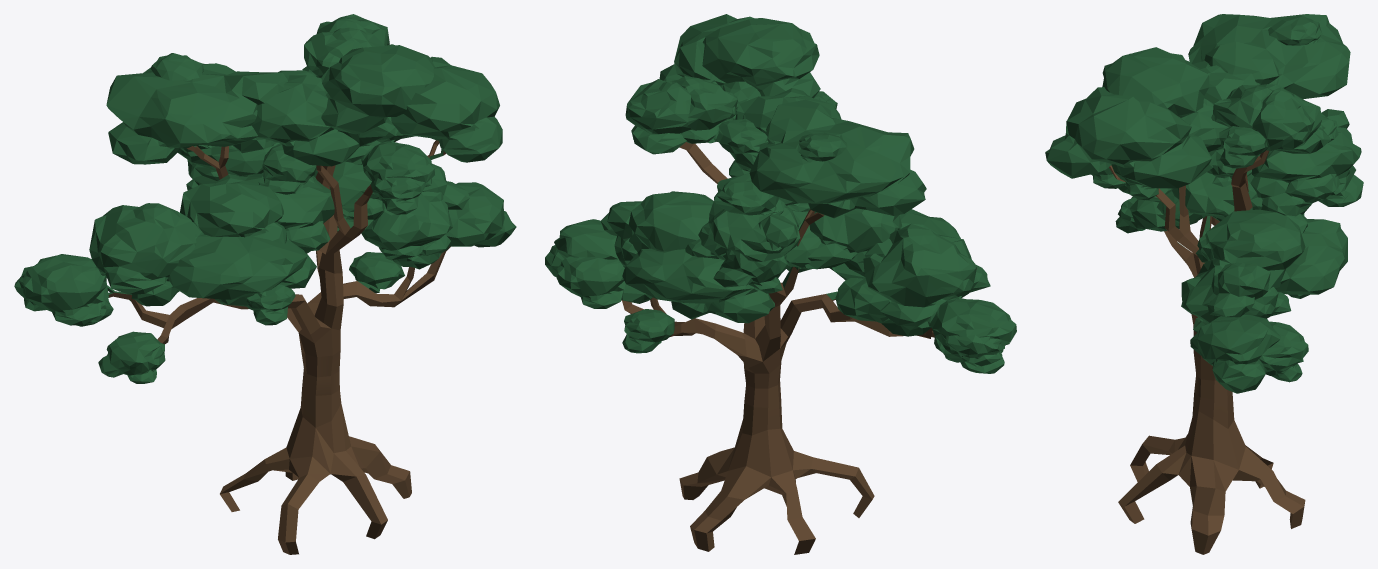
The model's file is tree11.fbx.
The picture shows the model from 3 angles, left to right: view 1: azimuth 30°, elevation 25°; view 2: azimuth 150°, elevation 25°; view 3: azimuth 270°, elevation 25°; orthographic projection.
Visible parts, largest first — view 1: polySurface10827; view 2: polySurface10827; view 3: polySurface10827.
Boxes of the visible parts, x1,y1,x2,y2 form: polySurface10827: (14,14,516,554); polySurface10827: (545,14,1016,554); polySurface10827: (1045,14,1363,554).
Bounding box in the file's own units: 930 × 883 × 542.
